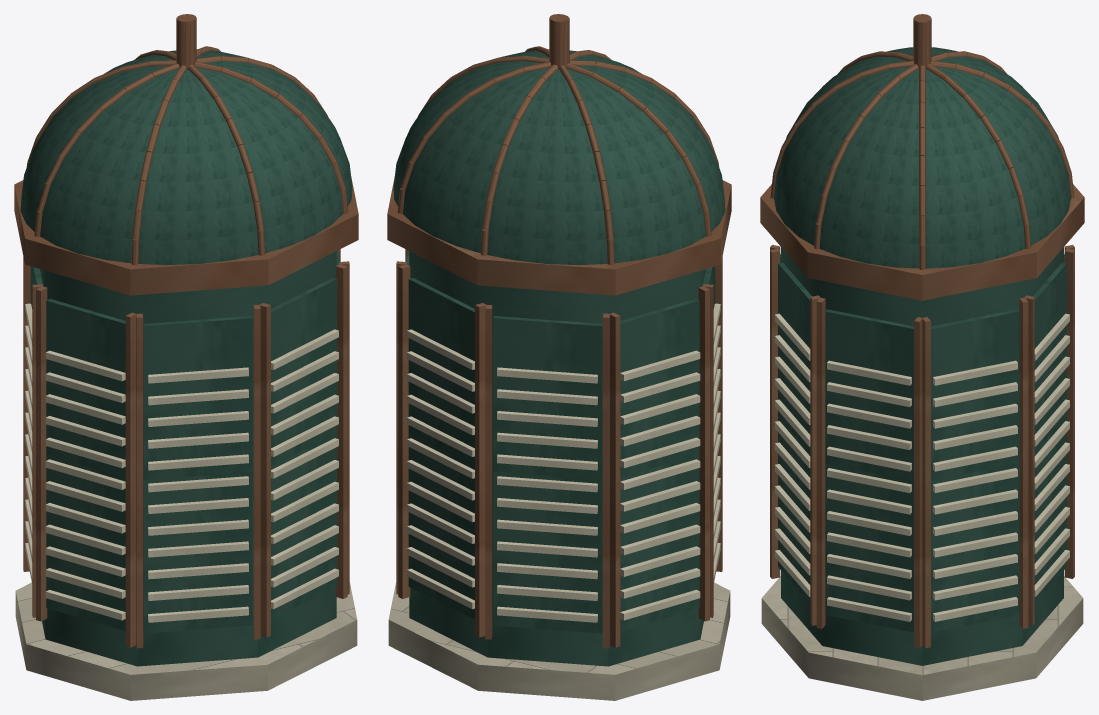
The model's file is city-kiosk.glb.
3 renders of one model, left to right at view 1: azimuth 30°, elevation 25°; view 2: azimuth 150°, elevation 25°; view 3: azimuth 270°, elevation 25°, orthographic.
Visible parts, largest first — view 1: city-kiosk.001; view 2: city-kiosk.001; view 3: city-kiosk.001.
Part boxes in pixels (x1=…): city-kiosk.001: x1=14, y1=14, x2=358, y2=700; city-kiosk.001: x1=387, y1=14, x2=731, y2=700; city-kiosk.001: x1=760, y1=14, x2=1084, y2=700.
Bounding box in the file's own units: 2.6 × 4.72 × 2.29.
1 material, 1 textured.
